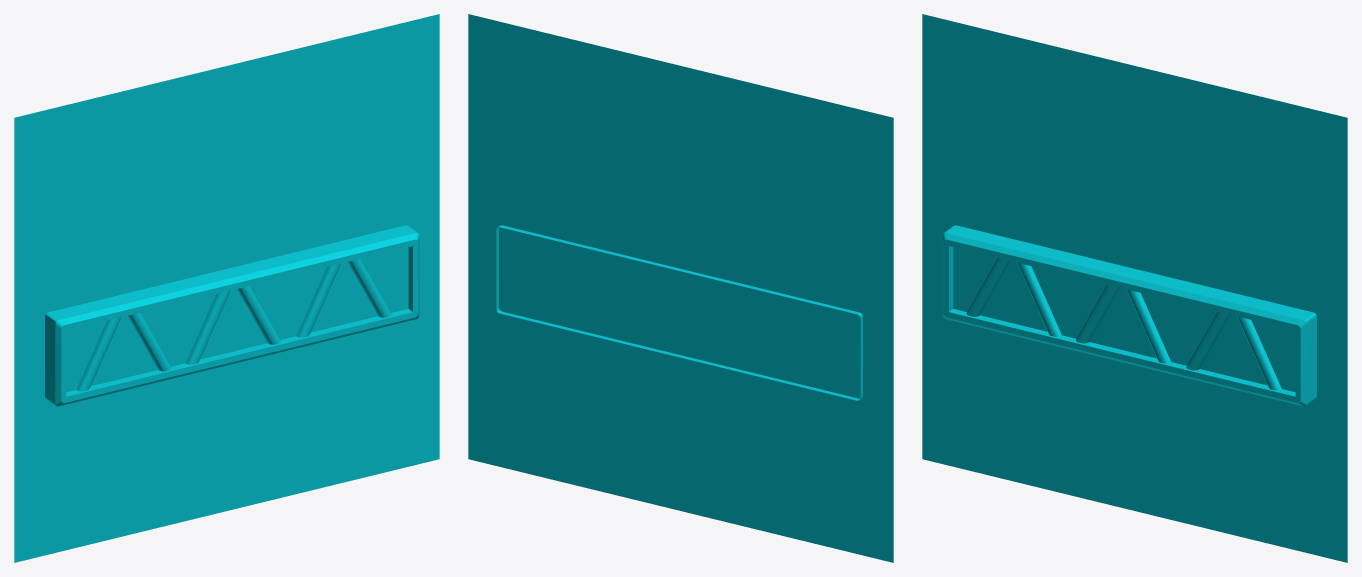
File: H_Wall_2.fbx
The picture shows the model from 3 angles, left to right: view 1: azimuth 30°, elevation 25°; view 2: azimuth 150°, elevation 25°; view 3: azimuth 330°, elevation 25°; orthographic projection.
Visible parts, largest first — view 1: H_Wall_2; view 2: H_Wall_2; view 3: H_Wall_2.
Boxes of the visible parts, bbox=[...] form: H_Wall_2: bbox=[14, 14, 439, 562]; H_Wall_2: bbox=[468, 14, 893, 562]; H_Wall_2: bbox=[922, 14, 1347, 562].
Size of the model in its own units: 4 by 4 by 0.2499.
